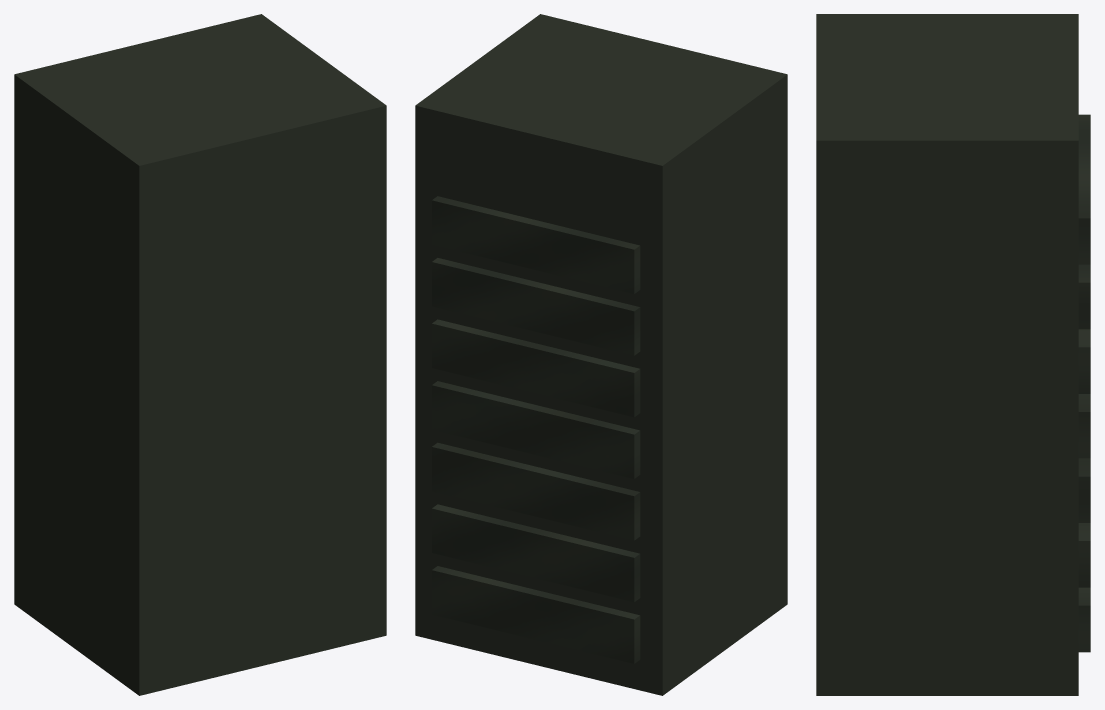
Rendered from prop_mainframe_uplink_terminal_a.glb.
3 renders of one model, left to right at view 1: azimuth 30°, elevation 25°; view 2: azimuth 150°, elevation 25°; view 3: azimuth 270°, elevation 25°, orthographic. The views are drawn at different scales.
Parts seen in each view (by area): view 1: prop_mainframe_uplink_terminal_a; view 2: prop_mainframe_uplink_terminal_a; view 3: prop_mainframe_uplink_terminal_a.
Part boxes in pixels (<box>): prop_mainframe_uplink_terminal_a: <box>14,14,386,695</box>; prop_mainframe_uplink_terminal_a: <box>415,14,787,695</box>; prop_mainframe_uplink_terminal_a: <box>816,14,1090,695</box>.
Size of the model in its own units: 1.05 by 2.15 by 0.9625.
Materials: 1 (1 with a texture image).
